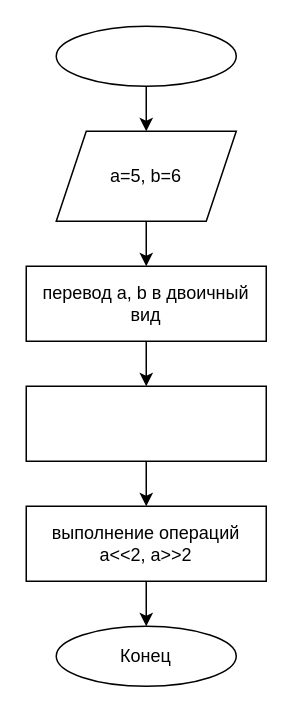
The diagram is 293 pixels wide and 713 high, and some of its shapes have lost their labels. Each missing label, with the centre of its shape:
"выполнение операций a|b, a&b, a^b" belongs at pixel 145 423.
"Начало" belongs at pixel 145 55.
